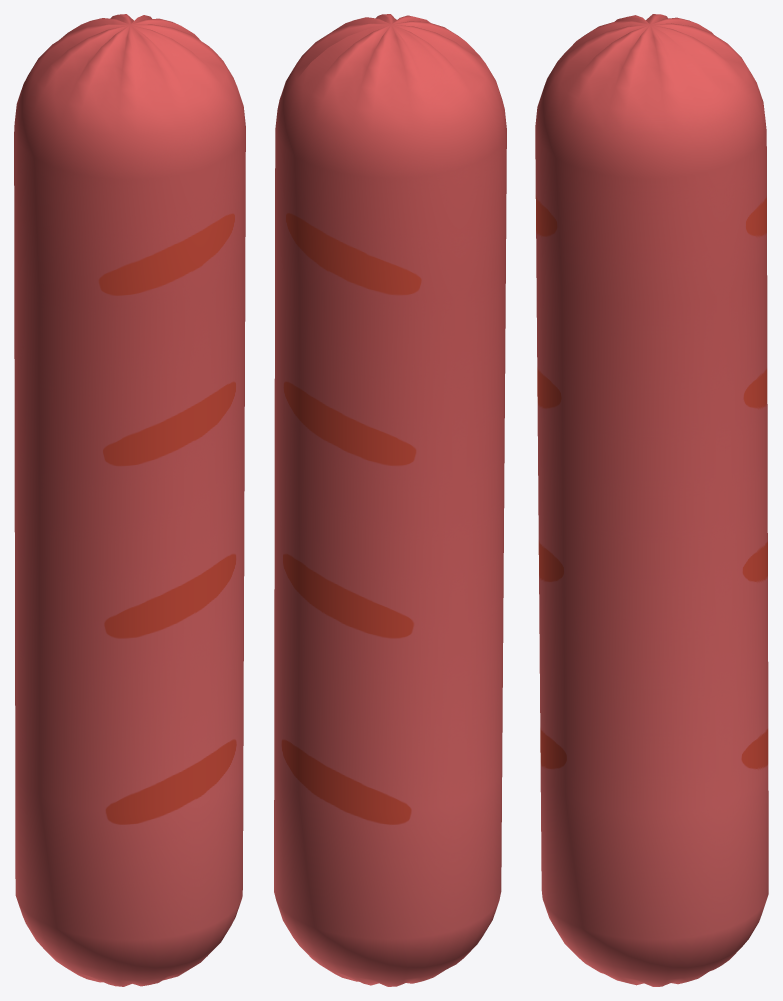
Rendered from hotdog.fbx.
3 views of the same model, side by side, from view 1: azimuth 30°, elevation 25°; view 2: azimuth 150°, elevation 25°; view 3: azimuth 270°, elevation 25° (orthographic).
Parts seen in each view (by area): view 1: Sausage; view 2: Sausage; view 3: Sausage.
Part boxes in pixels (x1,y1,x2,y2): Sausage: [14, 14, 245, 986]; Sausage: [274, 14, 506, 986]; Sausage: [535, 14, 768, 986].
Size of the model in its own units: 200 by 903 by 201.
Materials: 1 (1 with a texture image).
